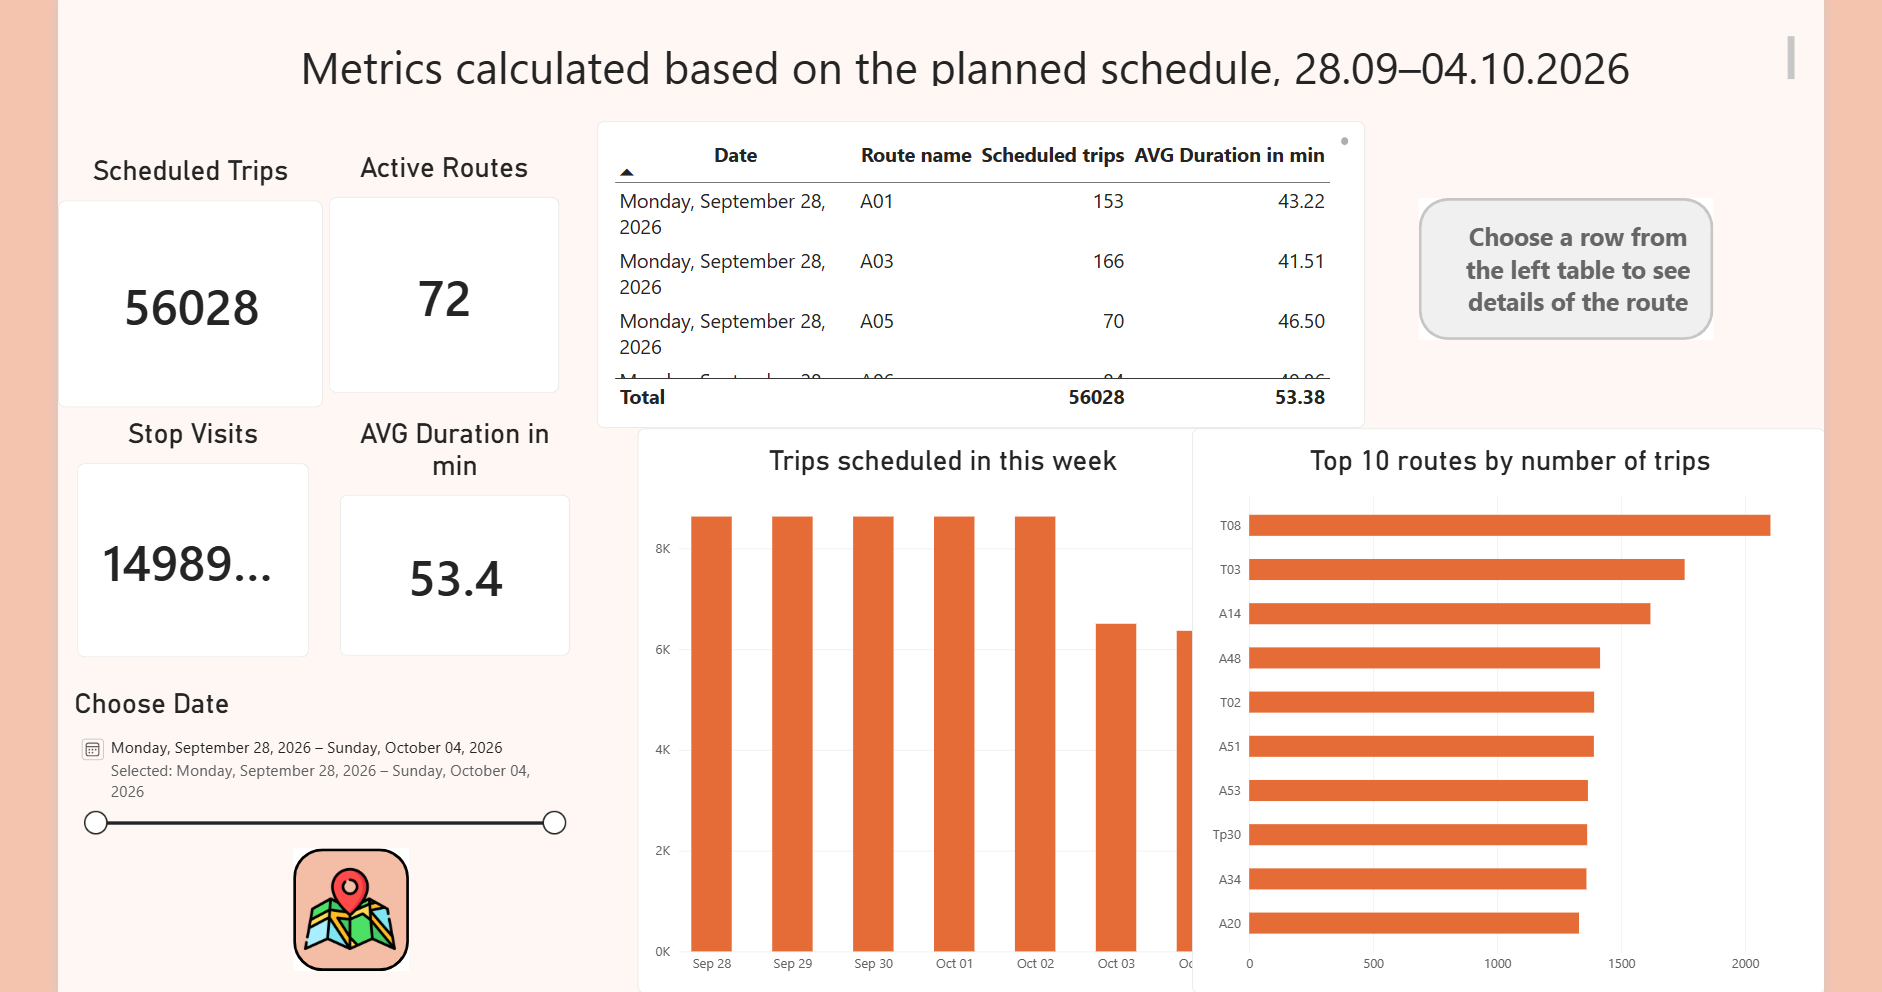

The dashboard page shown, as its layout file describes it:
{"tool":"powerbi","page":{"name":"Overview","canvas":[1920,1080],"ordinal":0},"visuals":[{"type":"cardVisual","title":"Scheduled Trips","fields":{"Data":["dim_date.scheduled_trips"]},"box":[0,158,288,286],"z":0},{"type":"cardVisual","title":"Active Routes","fields":{"Data":["fact_trips.active_routes"]},"box":[276,154,284,290],"z":1000},{"type":"cardVisual","title":"AVG Duration in min","fields":{"Data":["fact_trips.avg_duration_minutes"]},"box":[288,444,284,286],"z":2000},{"type":"columnChart","title":"Trips scheduled in this week","fields":{"Category":["dim_date.date"],"Y":["fact_trips.scheduled_trips"]},"box":[630,466,660,614],"z":3000},{"type":"clusteredBarChart","title":"Top 10 routes by number of trips","fields":{"Category":["dim_routes.route_short_name"],"Y":["fact_trips.scheduled_trips"]},"box":[1232,466,688,614],"z":4000},{"type":"cardVisual","title":"Stop Visits","fields":{"Data":["fact_stop_events.scheduled_stop_events"]},"box":[2,444,286,288],"z":5000},{"type":"textbox","box":[101.4,23.4,1801.7,85.8],"z":6000},{"type":"slicer","title":"Choose Date","fields":{"Values":["dim_date.date"]},"box":[0,730,572,222],"z":7000},{"type":"tableEx","fields":{"Values":["dim_date.date","dim_routes.route_short_name","dim_date.scheduled_trips","fact_trips.avg_duration_minutes"]},"box":[585.1,131.5,834.7,333.5],"z":8000},{"type":"actionButton","box":[256,922,125.8,133.4],"z":9000},{"type":"actionButton","box":[1478.9,215.3,320.2,154.4],"z":10000}]}

Visuals, with their boxes on the page's 1920x1080 design canvas (x1, y1, x2, y2). These are canvas units, not pixel positions in the 1882x992 screenshot, which may show the page scaled, cropped or inside an application window:
"Scheduled Trips" cardVisual: left=0, top=158, right=288, bottom=444
"Active Routes" cardVisual: left=276, top=154, right=560, bottom=444
"AVG Duration in min" cardVisual: left=288, top=444, right=572, bottom=730
"Trips scheduled in this week" columnChart: left=630, top=466, right=1290, bottom=1080
"Top 10 routes by number of trips" clusteredBarChart: left=1232, top=466, right=1920, bottom=1080
"Stop Visits" cardVisual: left=2, top=444, right=288, bottom=732
textbox: left=101, top=23, right=1903, bottom=109
"Choose Date" slicer: left=0, top=730, right=572, bottom=952
tableEx - dim_date.date x dim_routes.route_short_name: left=585, top=132, right=1420, bottom=465
actionButton: left=256, top=922, right=382, bottom=1055
actionButton: left=1479, top=215, right=1799, bottom=370
